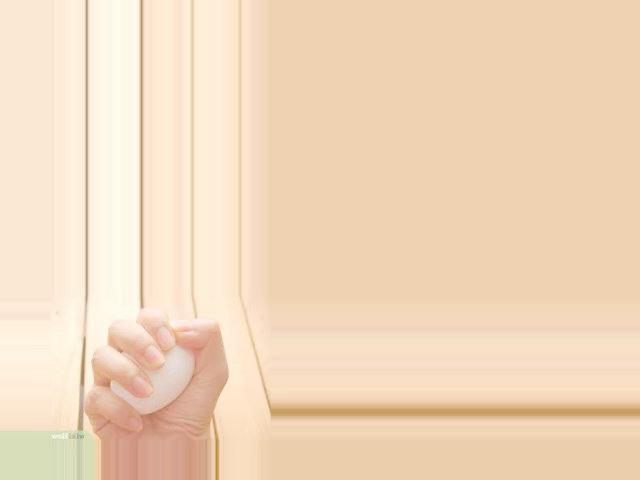egg: (108, 337, 194, 415)
